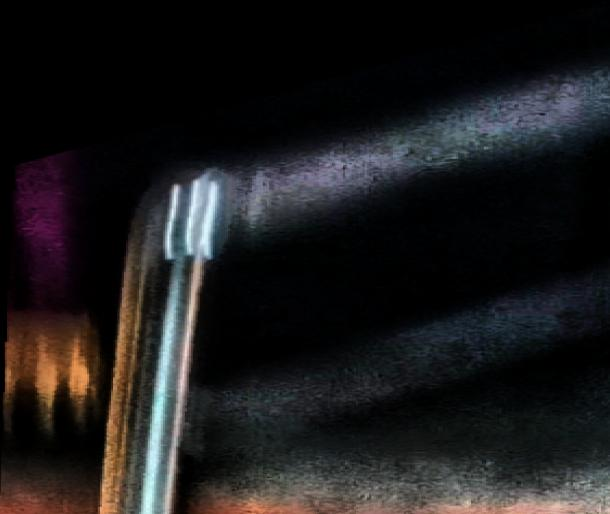obstacle: (0, 1, 610, 514)
